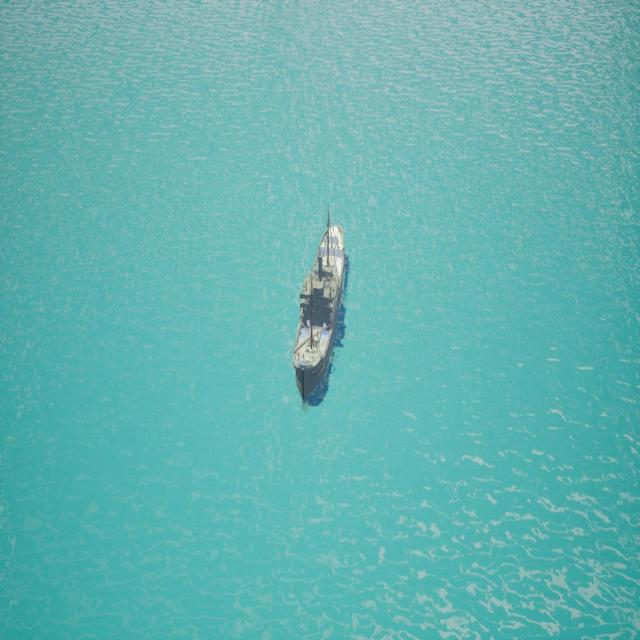fishing ship: (293, 224, 350, 410)
